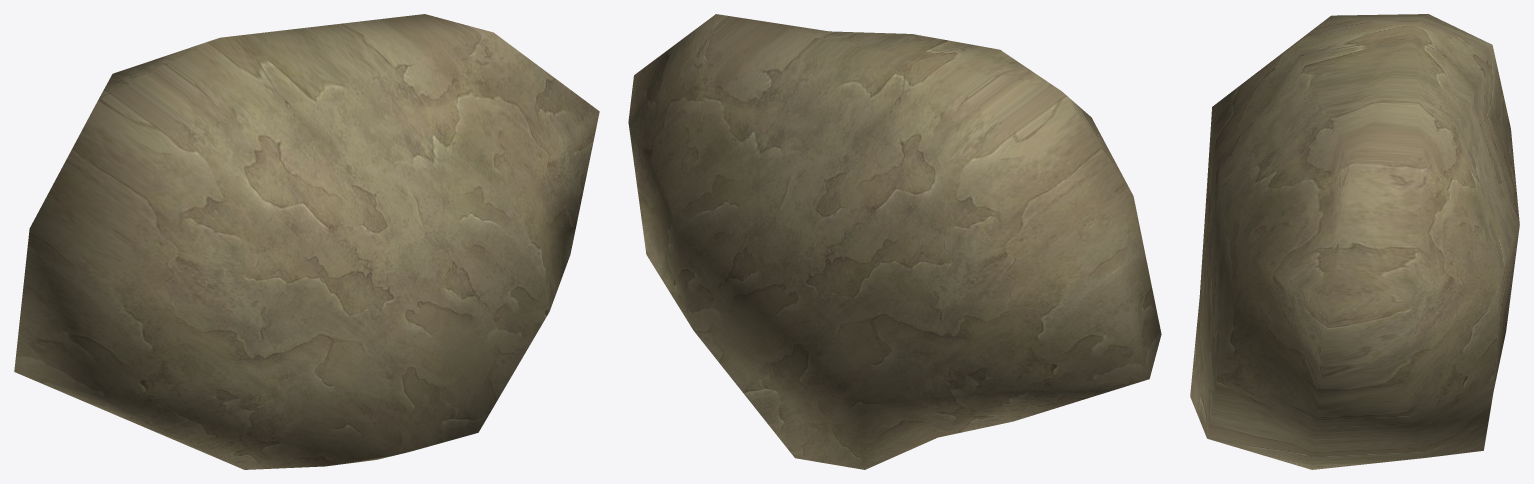
Rendered from Roca.FBX.
The picture shows the model from 3 angles, left to right: view 1: azimuth 30°, elevation 25°; view 2: azimuth 150°, elevation 25°; view 3: azimuth 270°, elevation 25°; orthographic projection. The views are drawn at different scales.
Visible parts, largest first — view 1: Box001; view 2: Box001; view 3: Box001.
Boxes of the visible parts, x1,y1,x2,y2 form: Box001: [14, 14, 599, 469]; Box001: [628, 14, 1161, 469]; Box001: [1190, 14, 1519, 469].
Bounding box in the file's own units: 370 × 261 × 198.
1 material, 1 textured.
